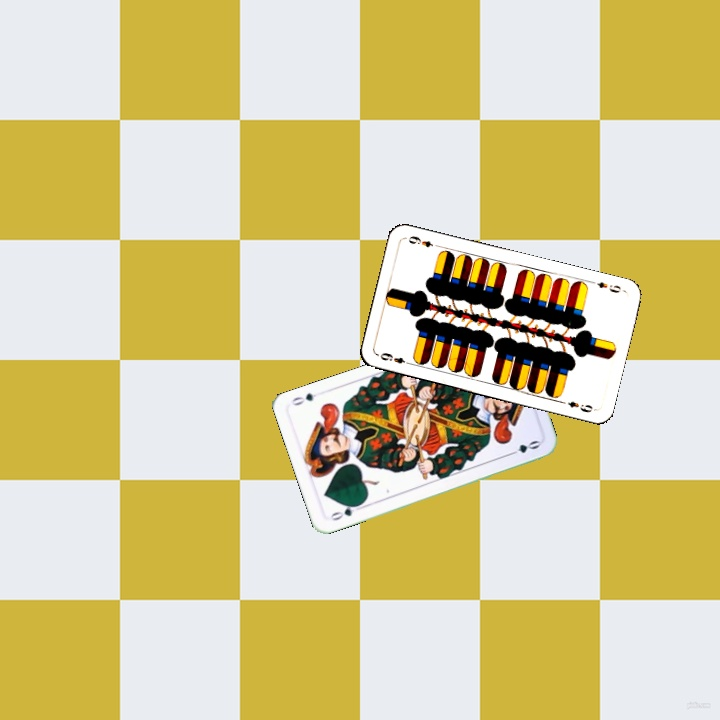E9: (376, 348, 414, 367), (593, 277, 623, 296)
GO: (325, 500, 364, 523)
